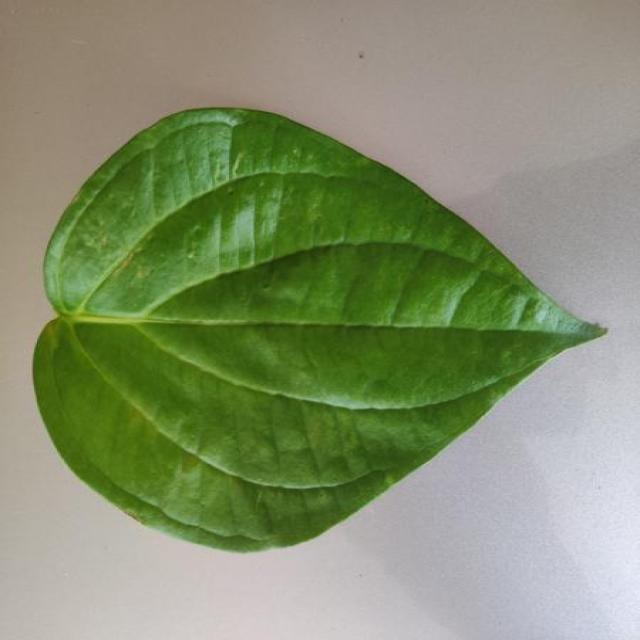betel: (33, 108, 603, 551)
